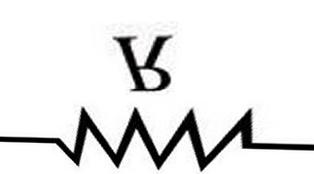resistor: (59, 96, 274, 171)
